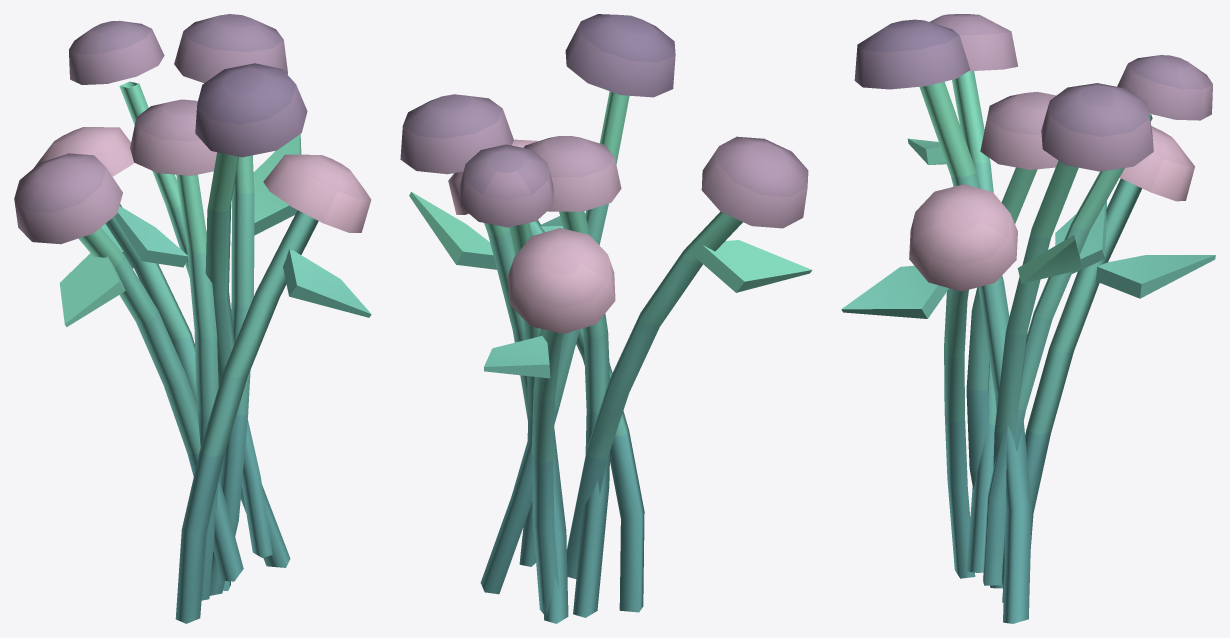
Rendered from dandelion_purple.glb.
The picture shows the model from 3 angles, left to right: view 1: azimuth 30°, elevation 25°; view 2: azimuth 150°, elevation 25°; view 3: azimuth 270°, elevation 25°; orthographic projection. The views are drawn at different scales.
Parts seen in each view (by area): view 1: Dandelion_Purple.001; view 2: Dandelion_Purple.001; view 3: Dandelion_Purple.001.
Part boxes in pixels (x1,y1,x2,y2): Dandelion_Purple.001: (14,14,371,623); Dandelion_Purple.001: (400,14,812,623); Dandelion_Purple.001: (841,14,1215,623).
Bounding box in the file's own units: 0.2409 × 0.3745 × 0.2228.
